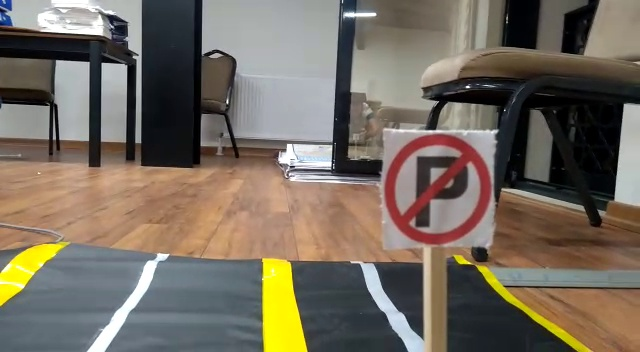park_yapilmaz: (380, 131, 491, 247)
